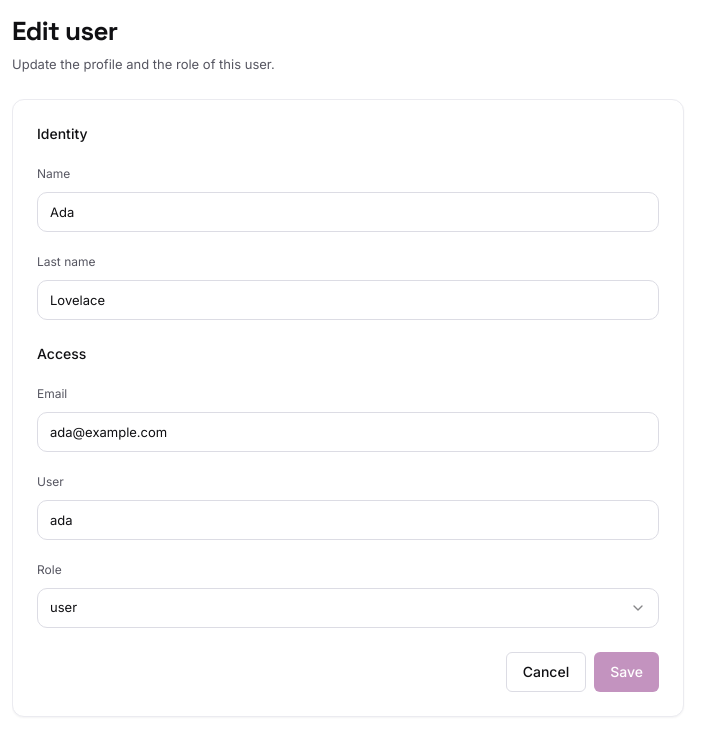
Test: edit user form — PATCH › maps UA-COM-004 onto the email field only
Replace the text in the field labelled "Name" with "Ada King" at x=348, y=212, box [37,192,659,232]
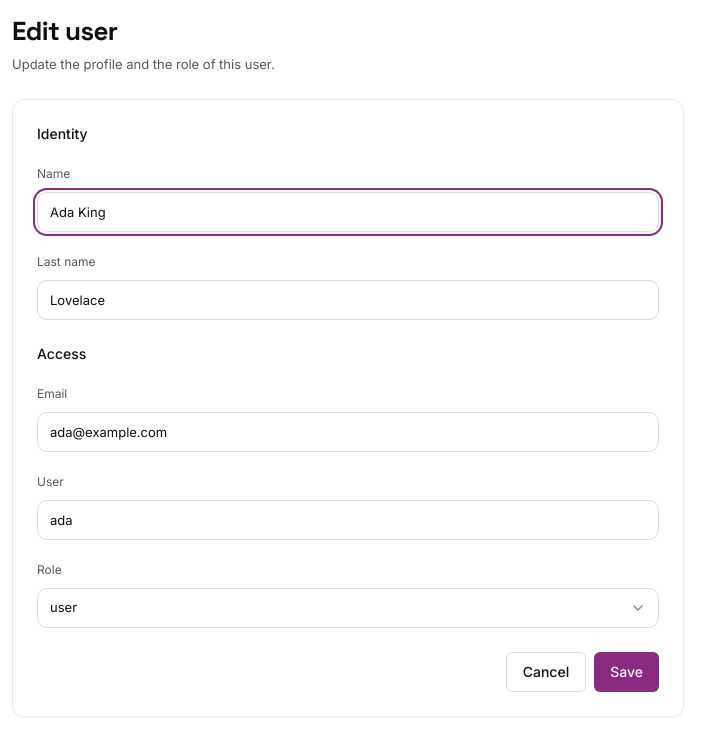
Click the button "Save" at x=627, y=672, box [594,652,659,692]
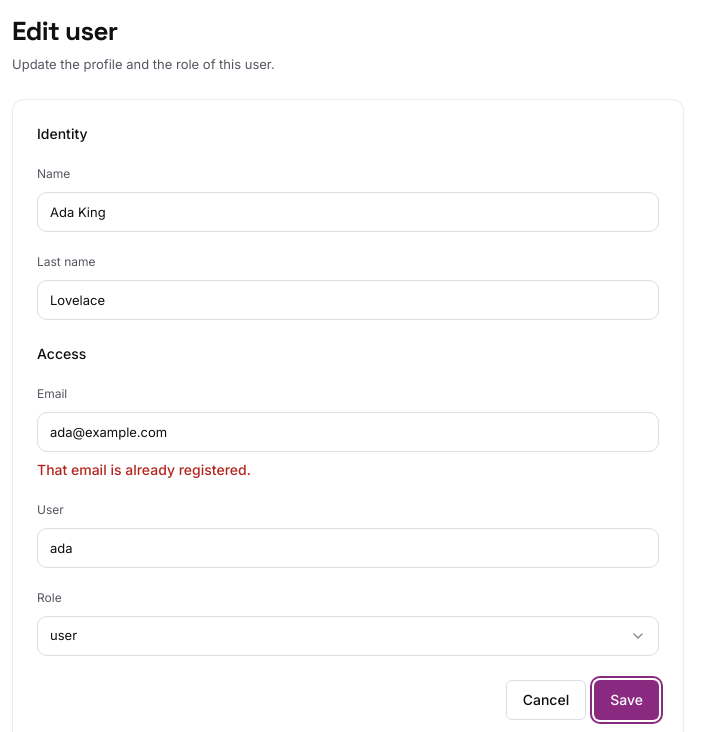
Expected: the text "That email is already registered." is shown, [37,460,251,478]
